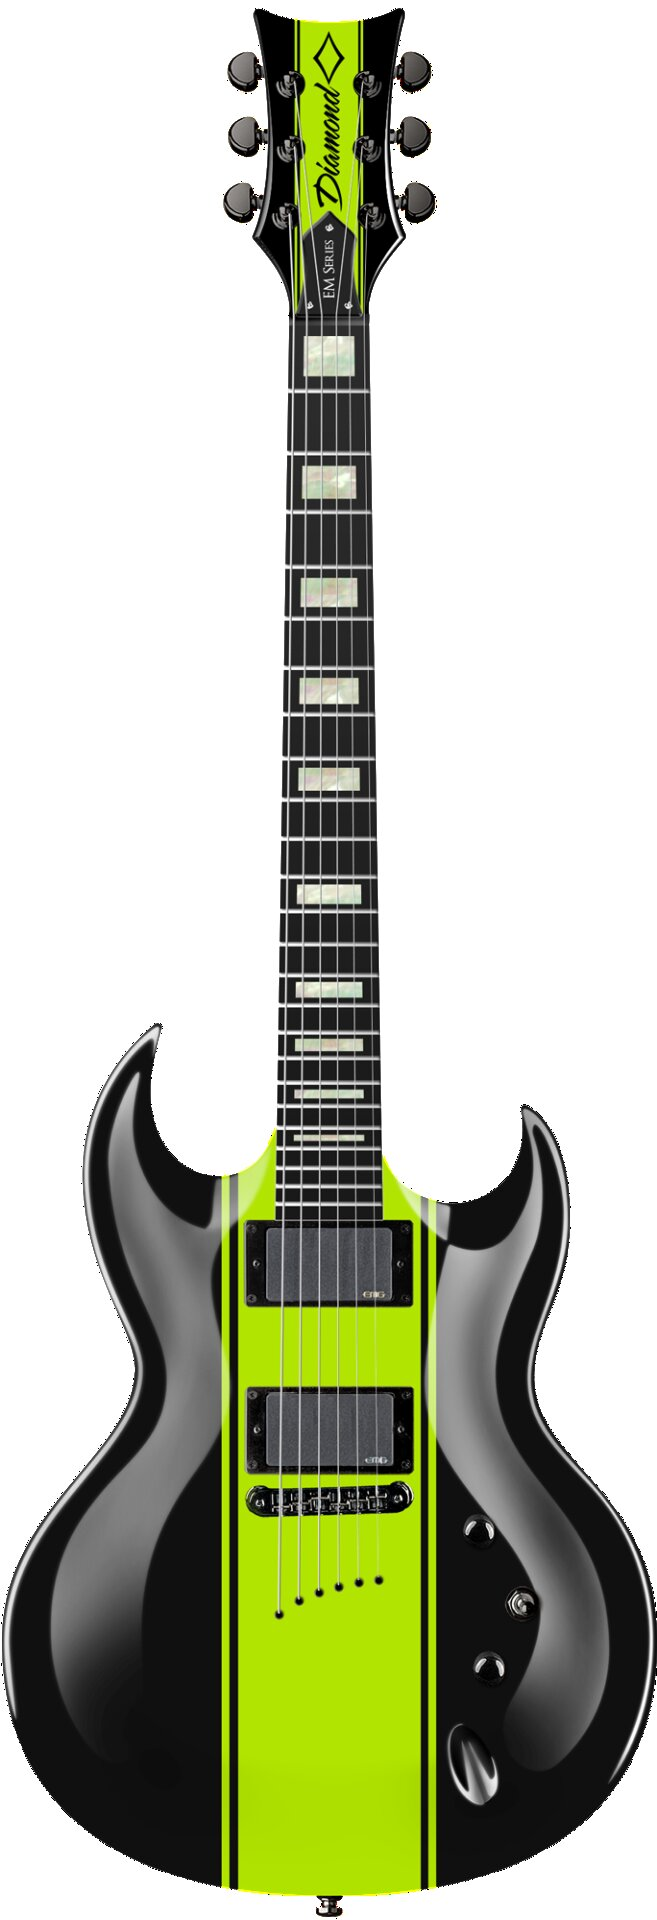ElectricGuitar: (1, 2, 646, 1907)
